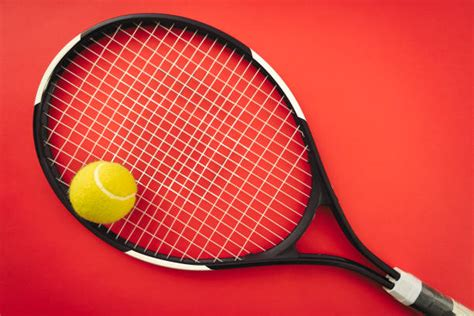tennis_ball: (68, 160, 138, 225)
